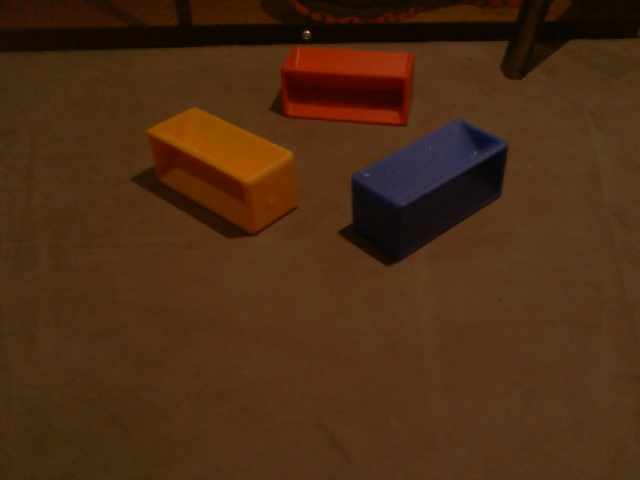BlueSample: (350, 120, 509, 260)
RedSample: (278, 45, 416, 128)
YellowSample: (144, 106, 299, 237)
